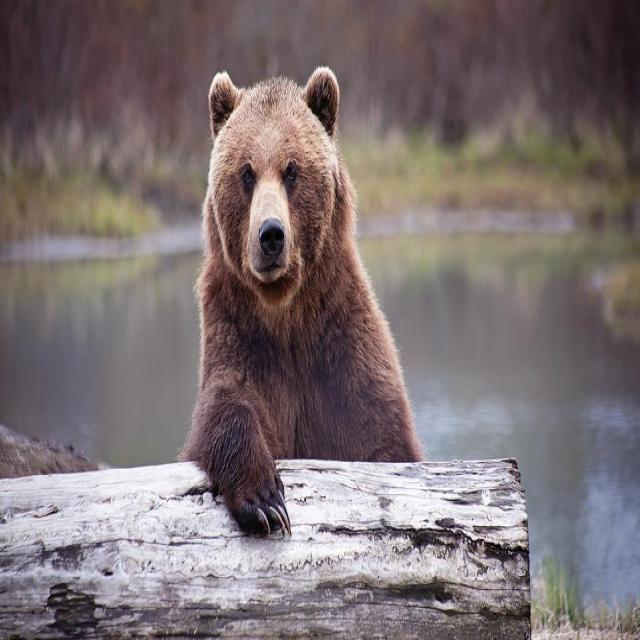Bear: (178, 66, 425, 541)
